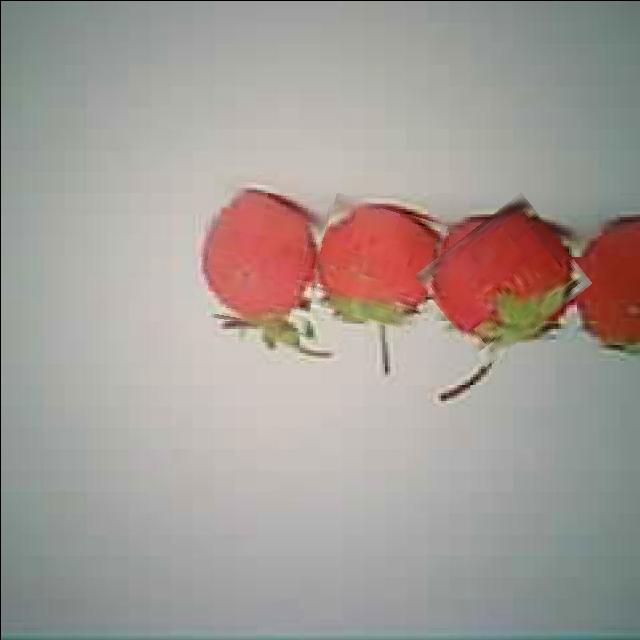strawberry: (424, 206, 581, 352), (196, 187, 323, 328), (310, 198, 440, 326)
